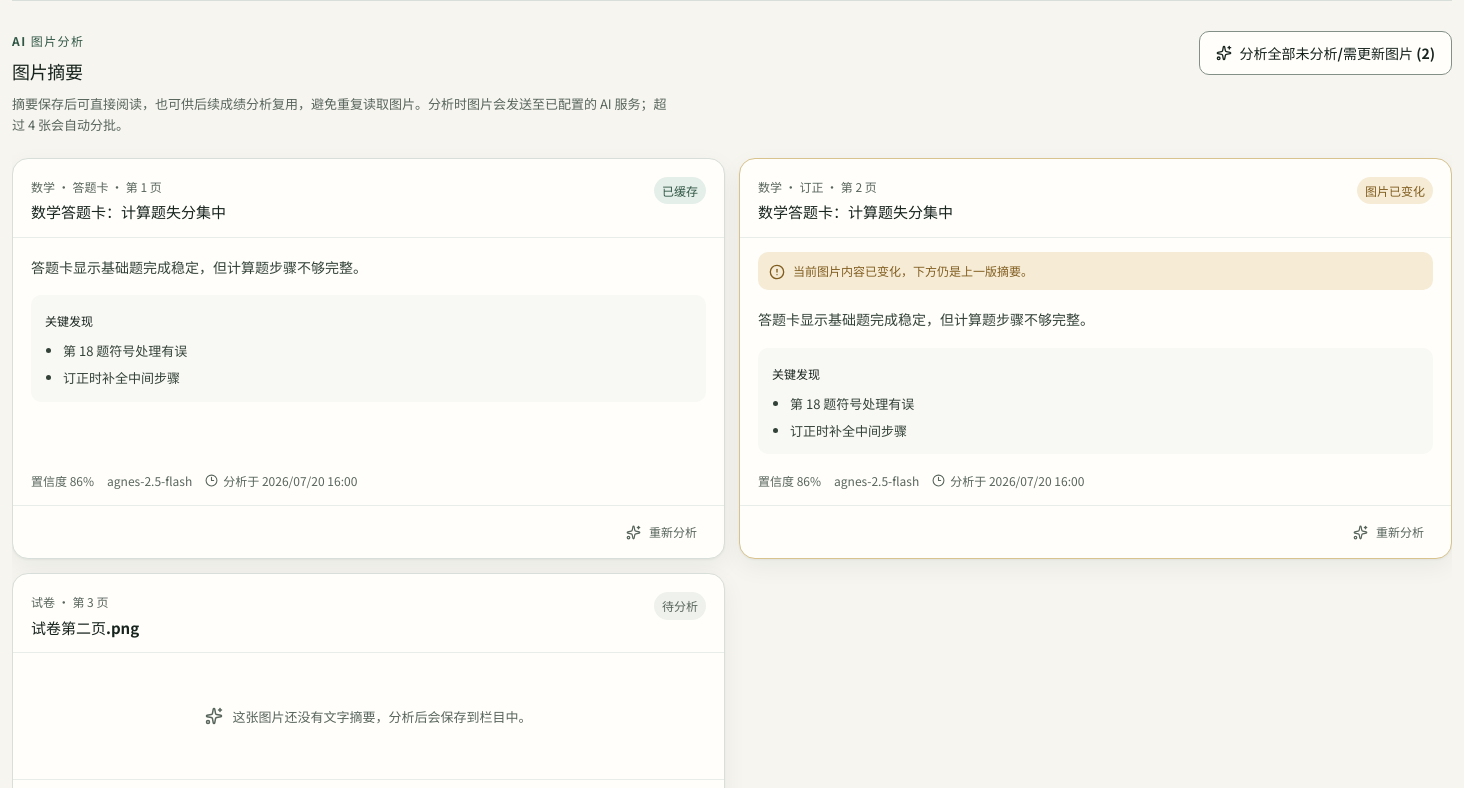
Test: AiImageAnalysisPanel › analyzes only pending or changed images from the batch action
Click the button "分析全部未分析/需更新图片 (2)" at (1325, 53), box [1198,31,1452,75]
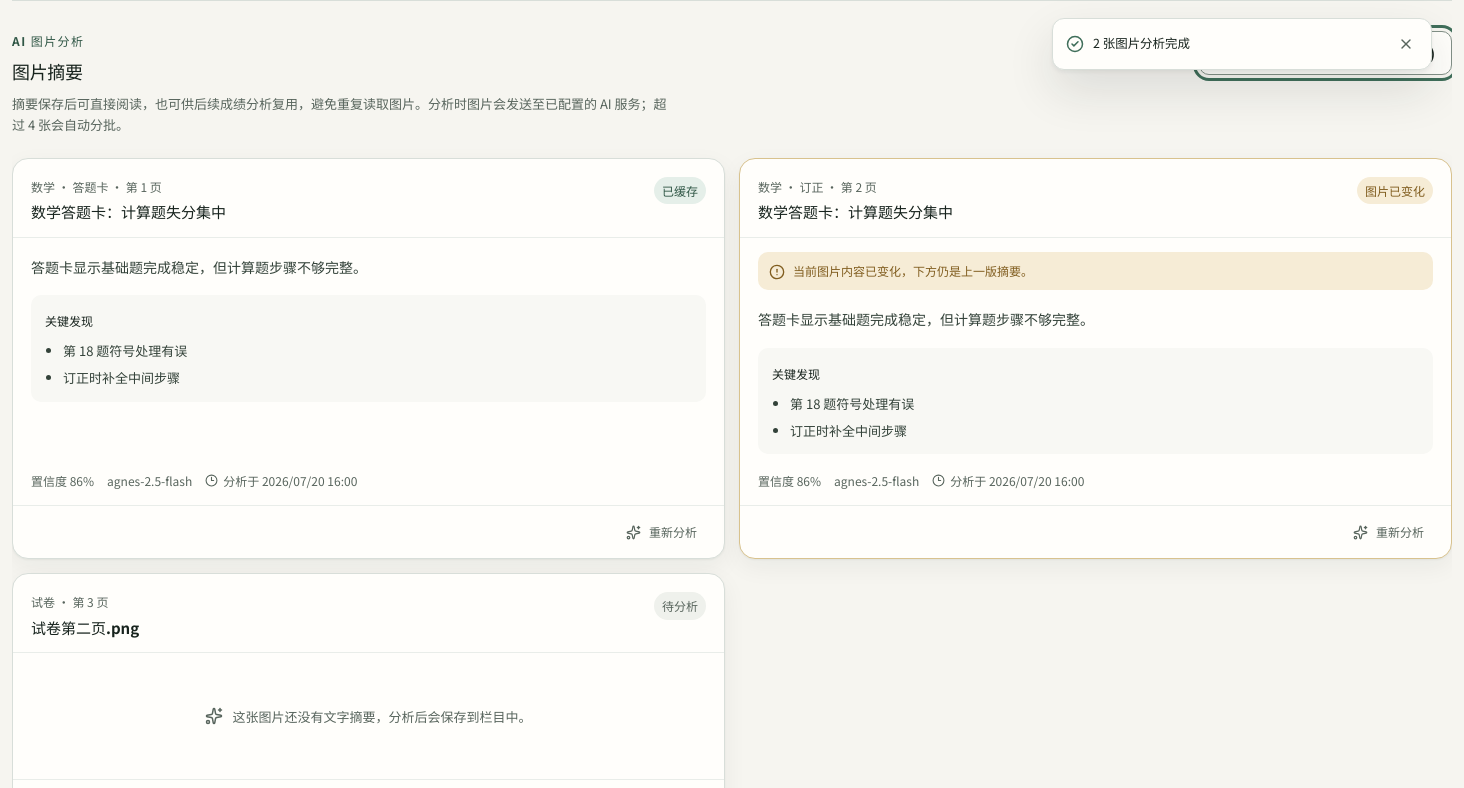
Expected: the text "2 张图片分析完成" is shown, [1093,34,1190,52]
